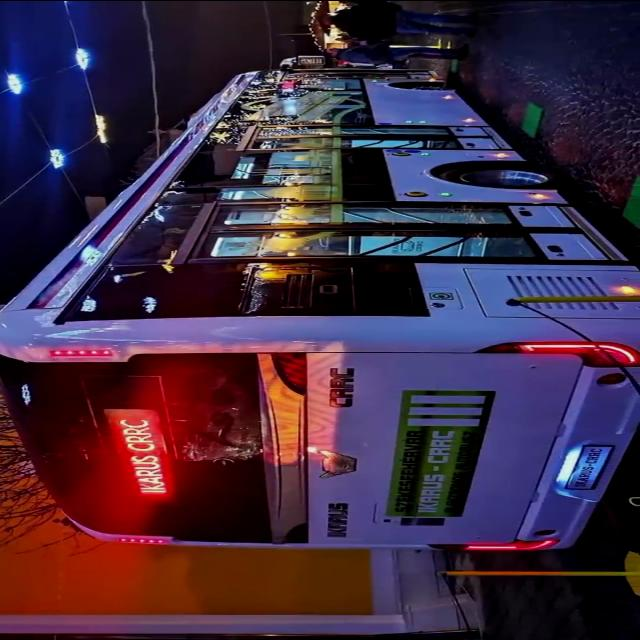bus: (1, 62, 640, 566)
